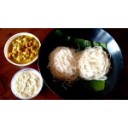idiyappam: (76, 48, 111, 80), (50, 47, 77, 80)
